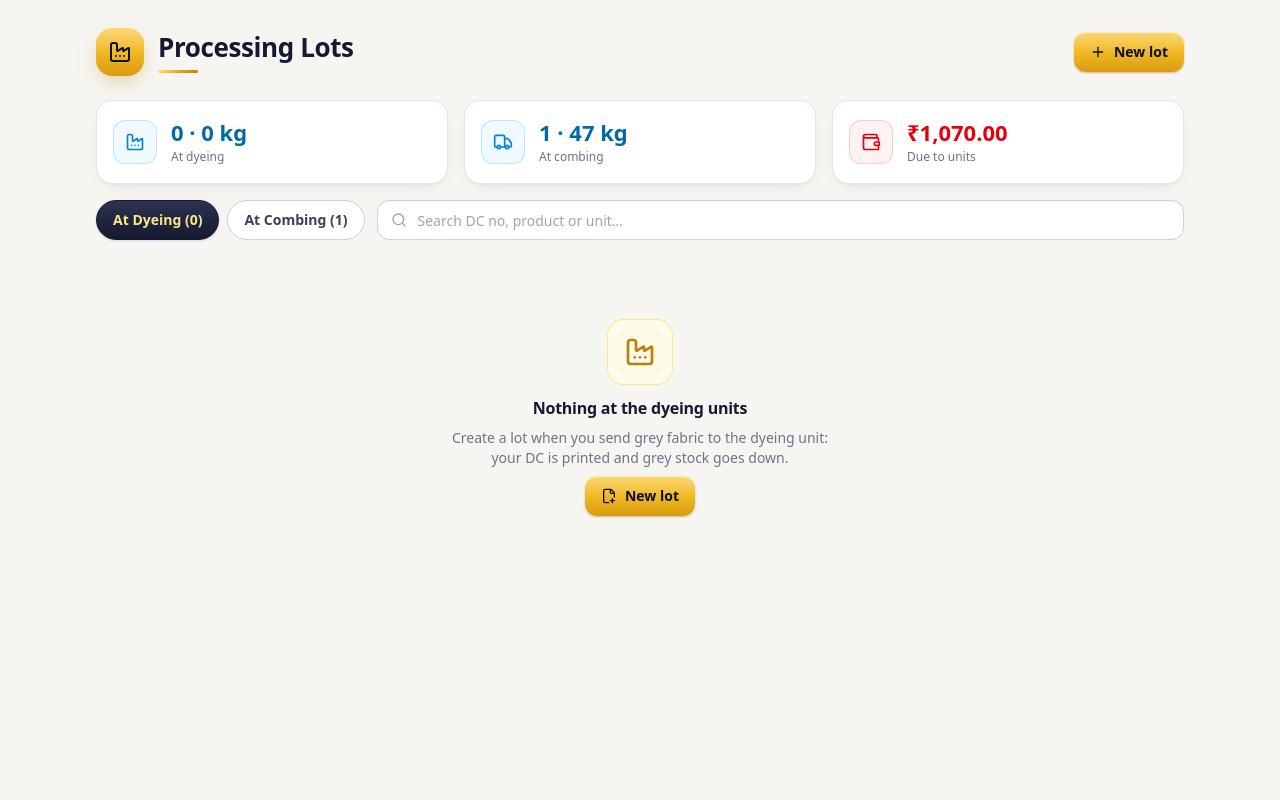
lot actions: edit, payment history, returns › edit asks which DC once the dyeing DC exists
Click the radio button labelled "At Combing (1)": click(296, 220) top-left (228, 200), bottom-right (364, 240)
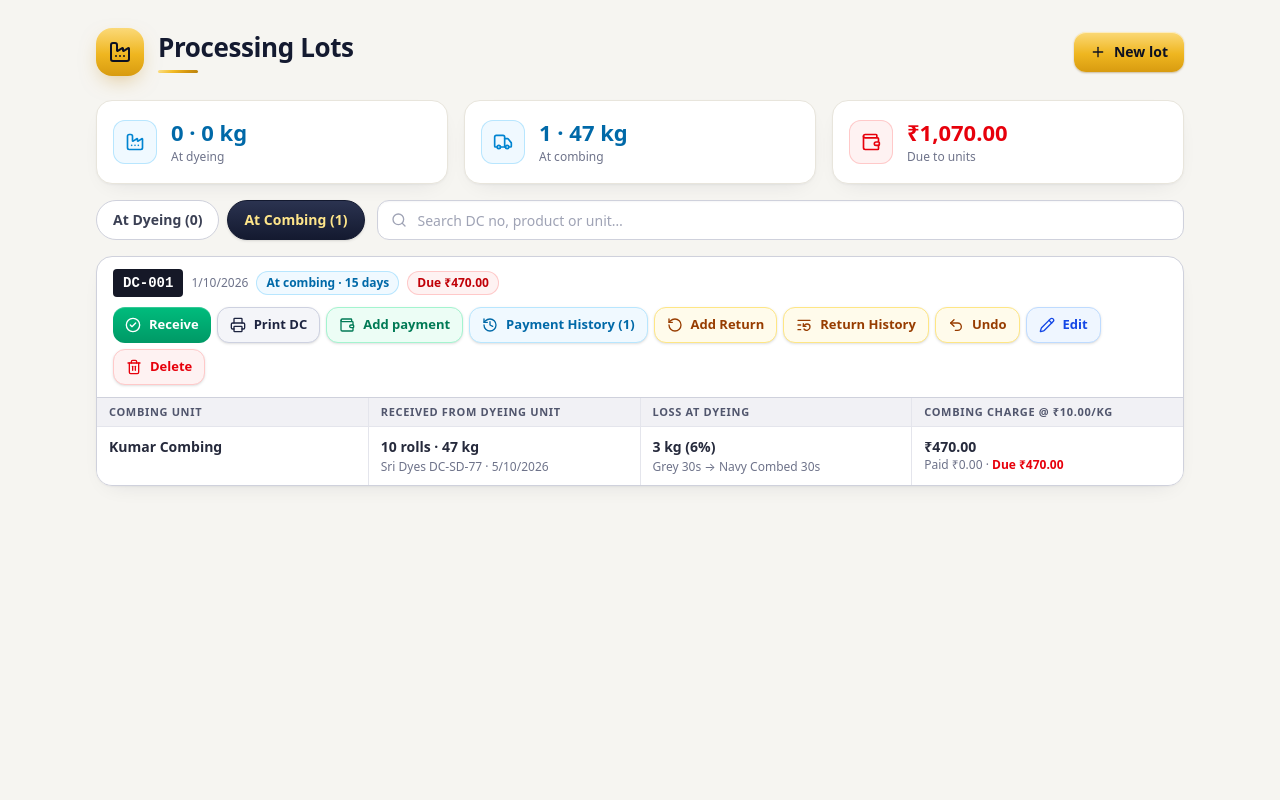
Click the button "Edit": click(1063, 325) top-left (1026, 307), bottom-right (1101, 343)
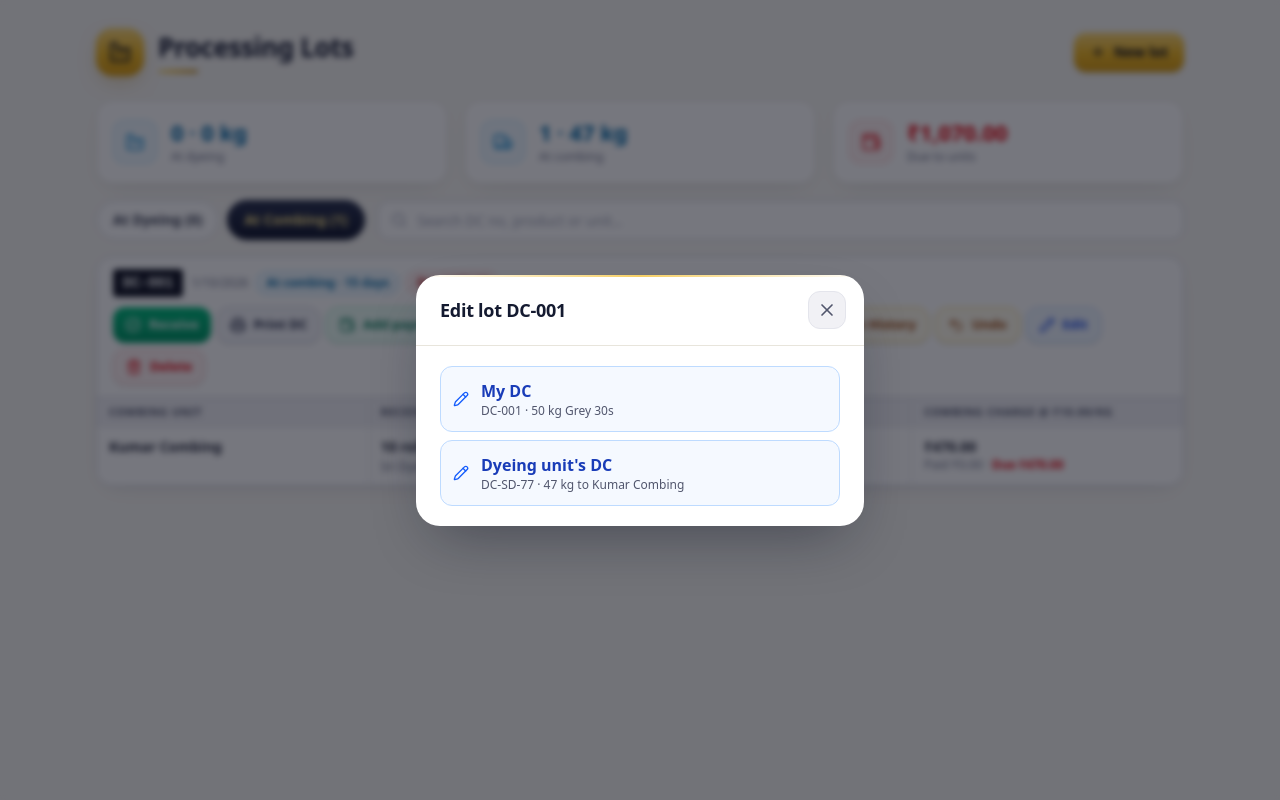
Check: the text "Dyeing unit's DC" is shown
Click the text "Dyeing unit's DC": click(547, 464) top-left (481, 454), bottom-right (612, 476)
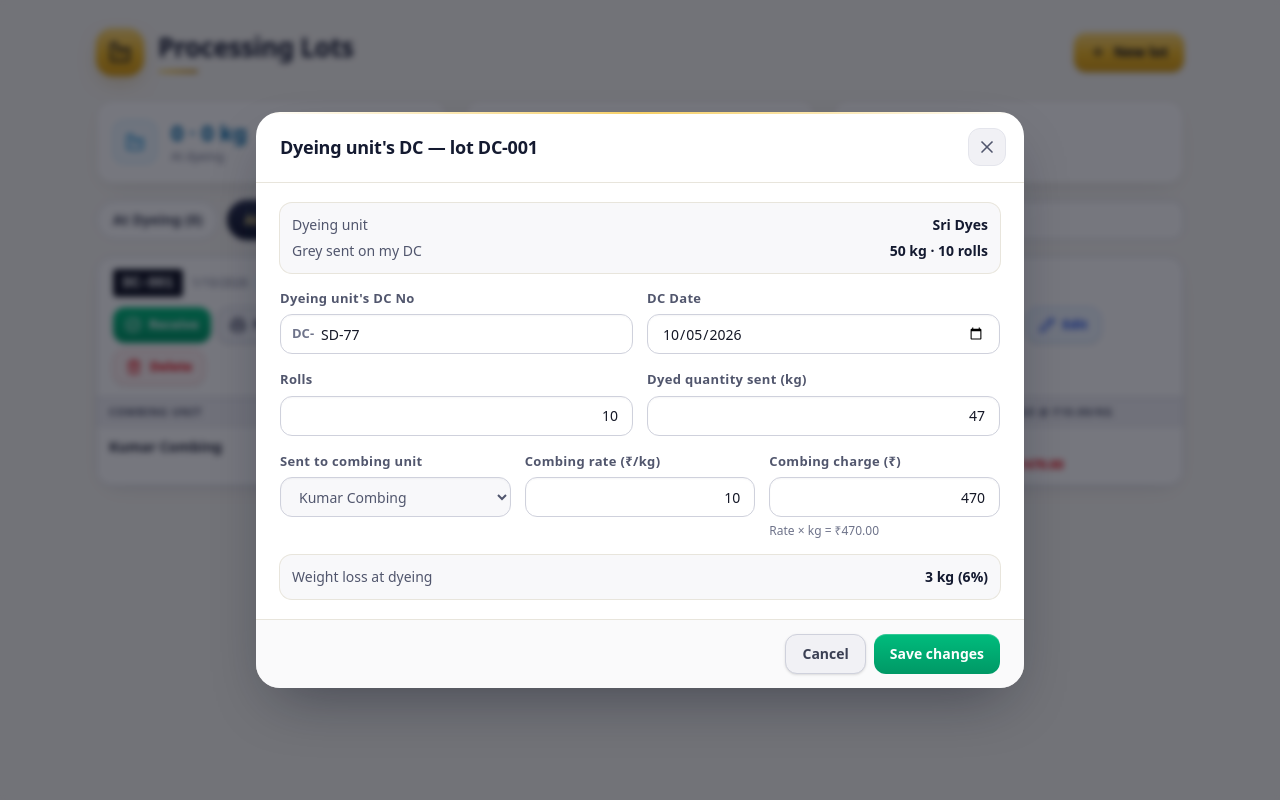
Check: the field labelled "Dyeing unit's DC No" holds "SD-77", box top-left (280, 314), bottom-right (633, 354)
